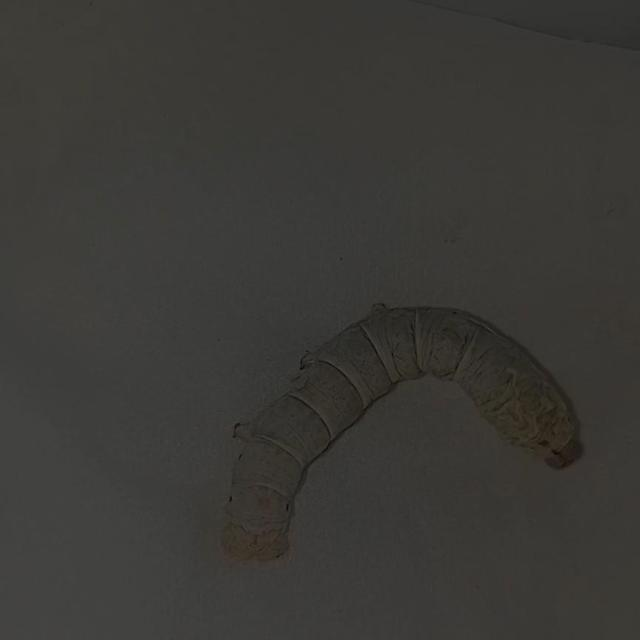Healthy: (163, 285, 596, 593)
